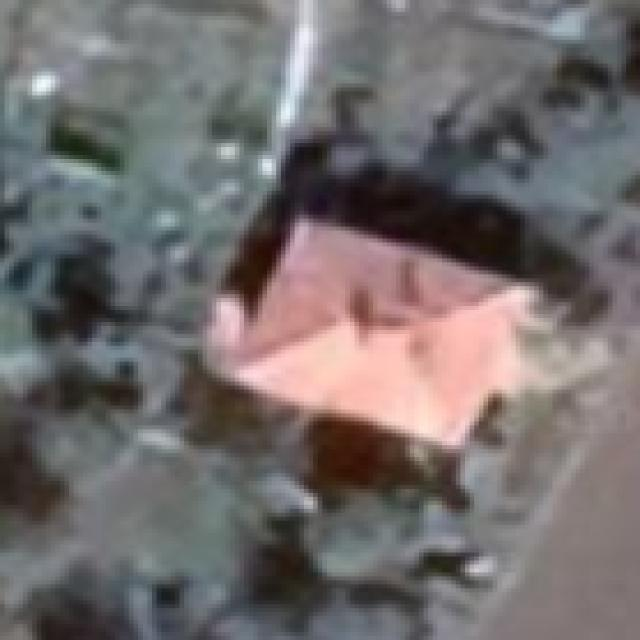Batiment: (208, 220, 536, 447)
